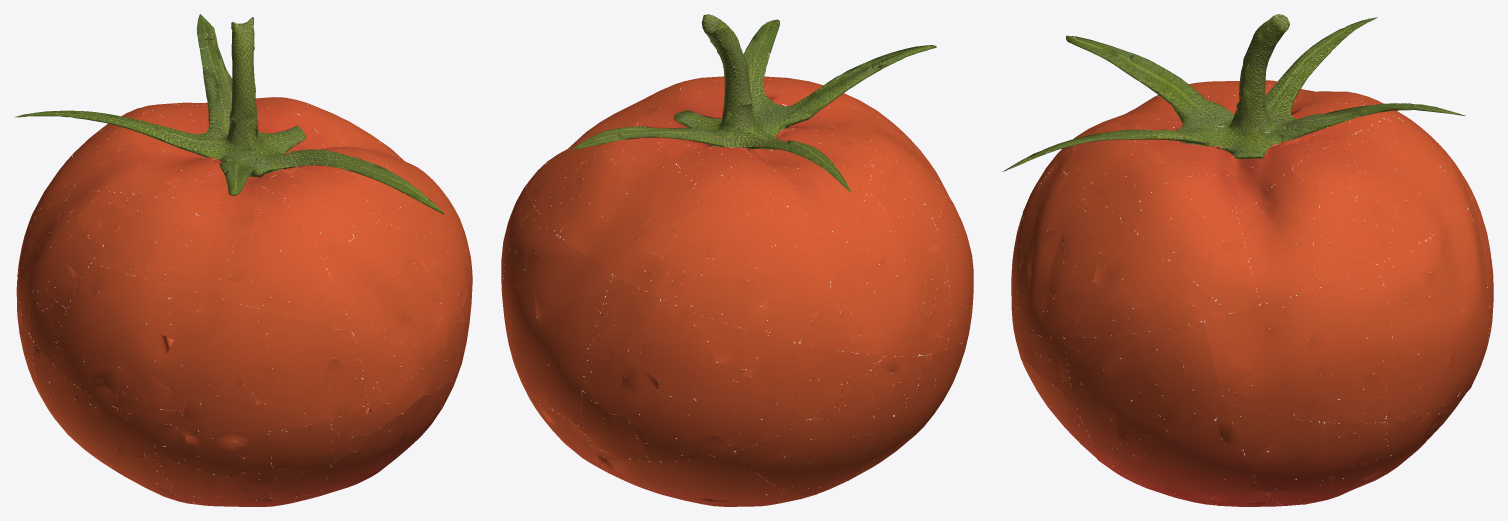
The model's file is tomato.glb.
3 views of the same model, side by side, from view 1: azimuth 30°, elevation 25°; view 2: azimuth 150°, elevation 25°; view 3: azimuth 270°, elevation 25° (orthographic). The views are drawn at different scales.
Parts seen in each view (by area): view 1: tripo_node_d1ad4912-11f9-4f20-bbbe-4f3dde62ab4f; view 2: tripo_node_d1ad4912-11f9-4f20-bbbe-4f3dde62ab4f; view 3: tripo_node_d1ad4912-11f9-4f20-bbbe-4f3dde62ab4f.
Boxes of the visible parts, left/top/right/bottom form: tripo_node_d1ad4912-11f9-4f20-bbbe-4f3dde62ab4f: left=14, top=14, right=472, bottom=506; tripo_node_d1ad4912-11f9-4f20-bbbe-4f3dde62ab4f: left=501, top=14, right=973, bottom=506; tripo_node_d1ad4912-11f9-4f20-bbbe-4f3dde62ab4f: left=1002, top=14, right=1493, bottom=506.
Size of the model in its own units: 0.9152 by 0.9799 by 0.9518.
1 material, 1 textured.
